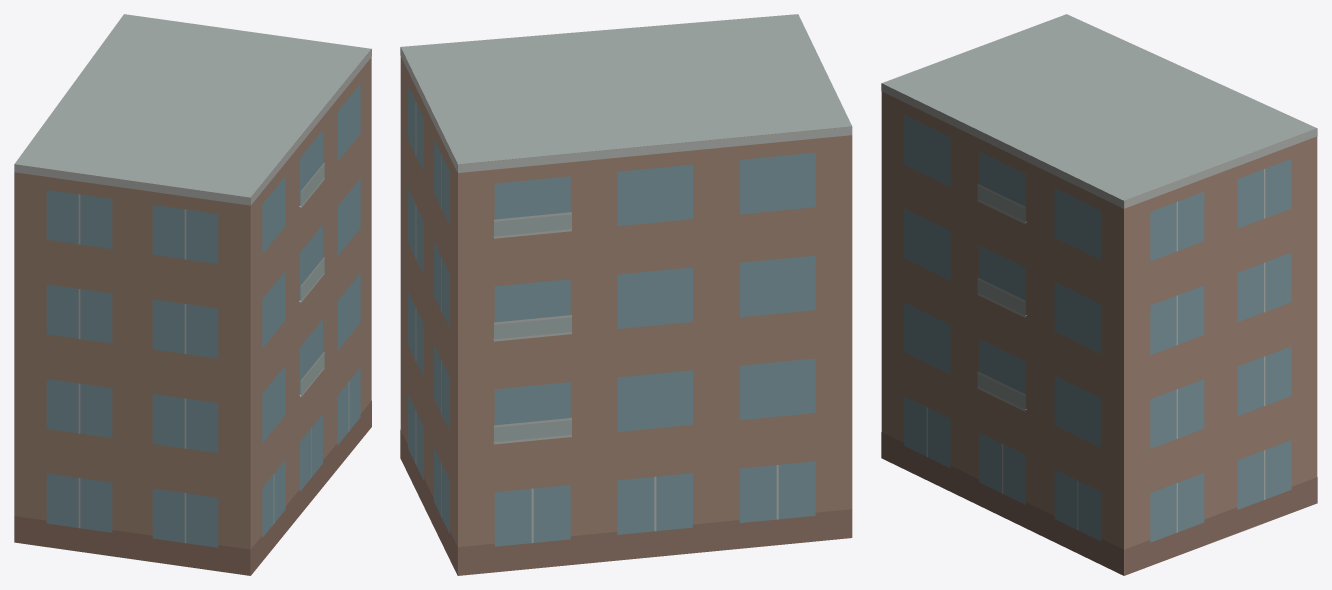
Rendered from survey-upis-32950736.glb.
3 renders of one model, left to right at view 1: azimuth 30°, elevation 25°; view 2: azimuth 150°, elevation 25°; view 3: azimuth 270°, elevation 25°, orthographic. The views are drawn at different scales.
Parts seen in each view (by area): view 1: survey-upis-32950736.tmp; view 2: survey-upis-32950736.tmp; view 3: survey-upis-32950736.tmp.
Part boxes in pixels (left/top/right/bottom): survey-upis-32950736.tmp: left=14, top=14, right=371, bottom=575; survey-upis-32950736.tmp: left=400, top=14, right=852, bottom=575; survey-upis-32950736.tmp: left=881, top=14, right=1317, bottom=575.
Size of the model in its own units: 12.23 by 11.44 by 12.06.
